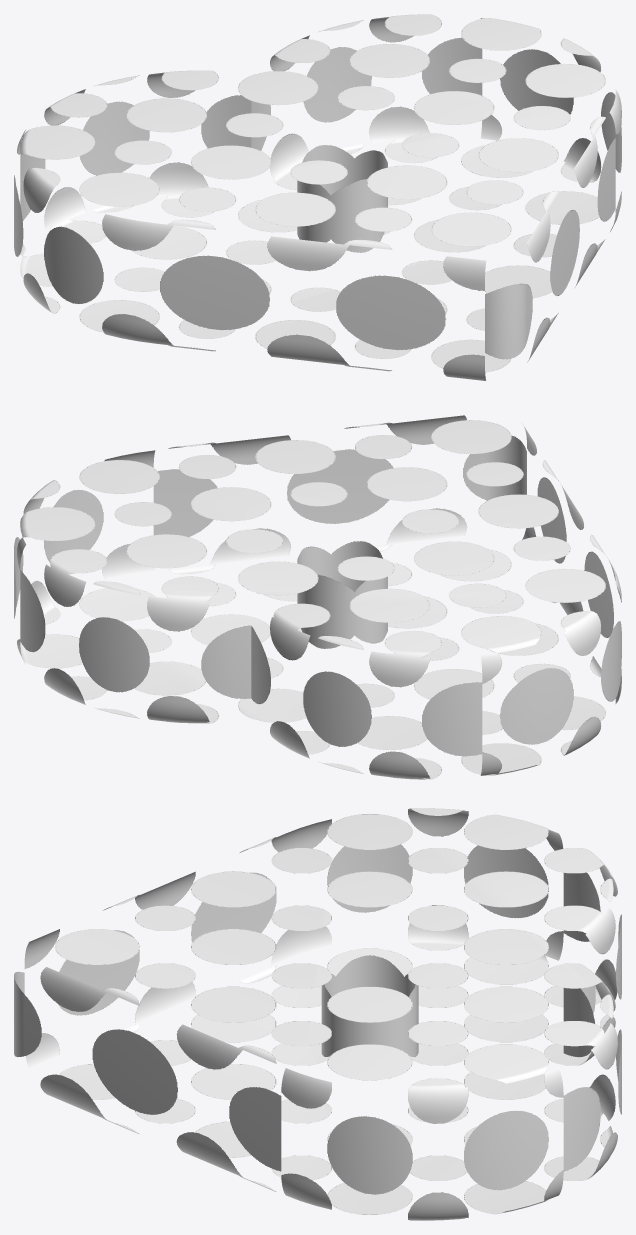
The picture shows the model from 3 angles, top to bottom: view 1: azimuth 30°, elevation 25°; view 2: azimuth 150°, elevation 25°; view 3: azimuth 270°, elevation 25°; orthographic projection. The views are drawn at different scales.
Visible parts, largest first — view 1: Heart.010; view 2: Heart.010; view 3: Heart.010.
Part boxes in pixels (left/top/right/bottom): Heart.010: left=14, top=14, right=621, bottom=380; Heart.010: left=14, top=415, right=621, bottom=779; Heart.010: left=14, top=808, right=621, bottom=1220.
Size of the model in its own units: 330 by 72 by 295.
